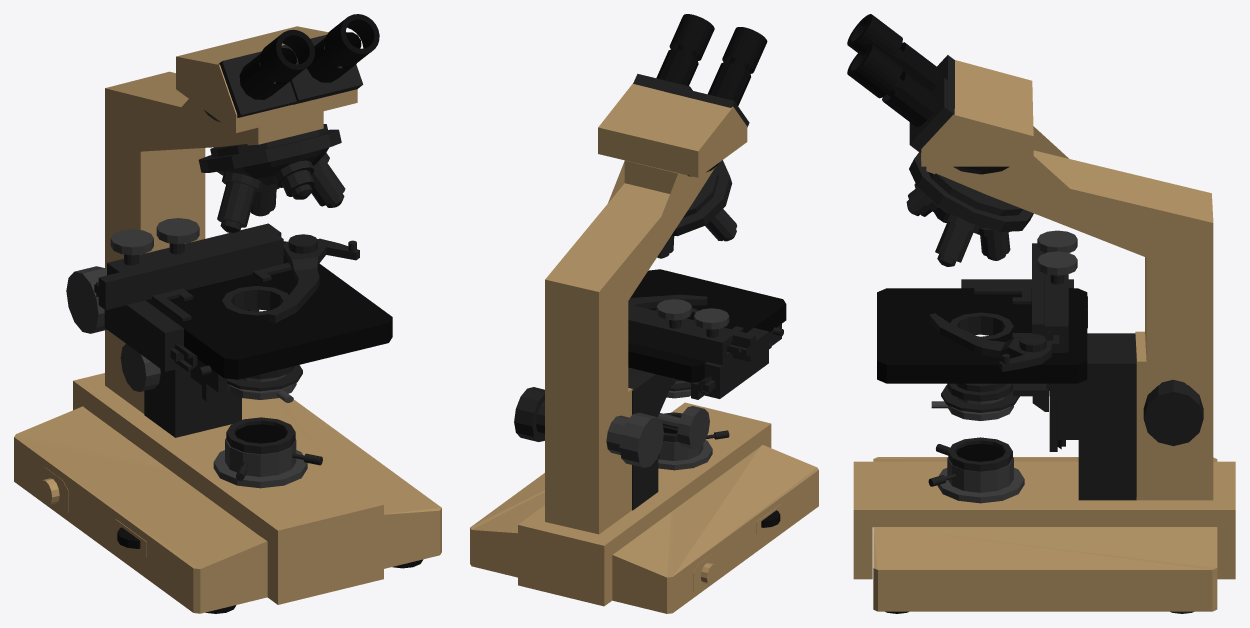
The model's file is Microscope 2.FBX.
3 views of the same model, side by side, from view 1: azimuth 30°, elevation 25°; view 2: azimuth 150°, elevation 25°; view 3: azimuth 270°, elevation 25° (orthographic). The views are drawn at different scales.
Visible parts, largest first — view 1: lensbase; view 2: lensbase; view 3: lensbase.
Boxes of the visible parts, x1=… form: lensbase: x1=14, y1=14, x2=441, y2=613; lensbase: x1=470, y1=14, x2=818, y2=613; lensbase: x1=847, y1=14, x2=1235, y2=613.
Size of the model in its own units: 0.0186 by 0.039 by 0.0258.
